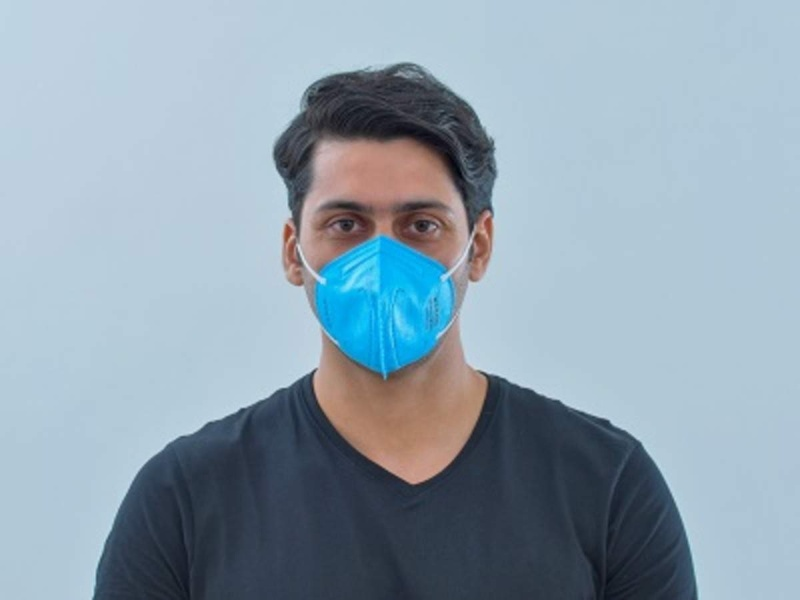mask: (314, 234, 455, 383)
